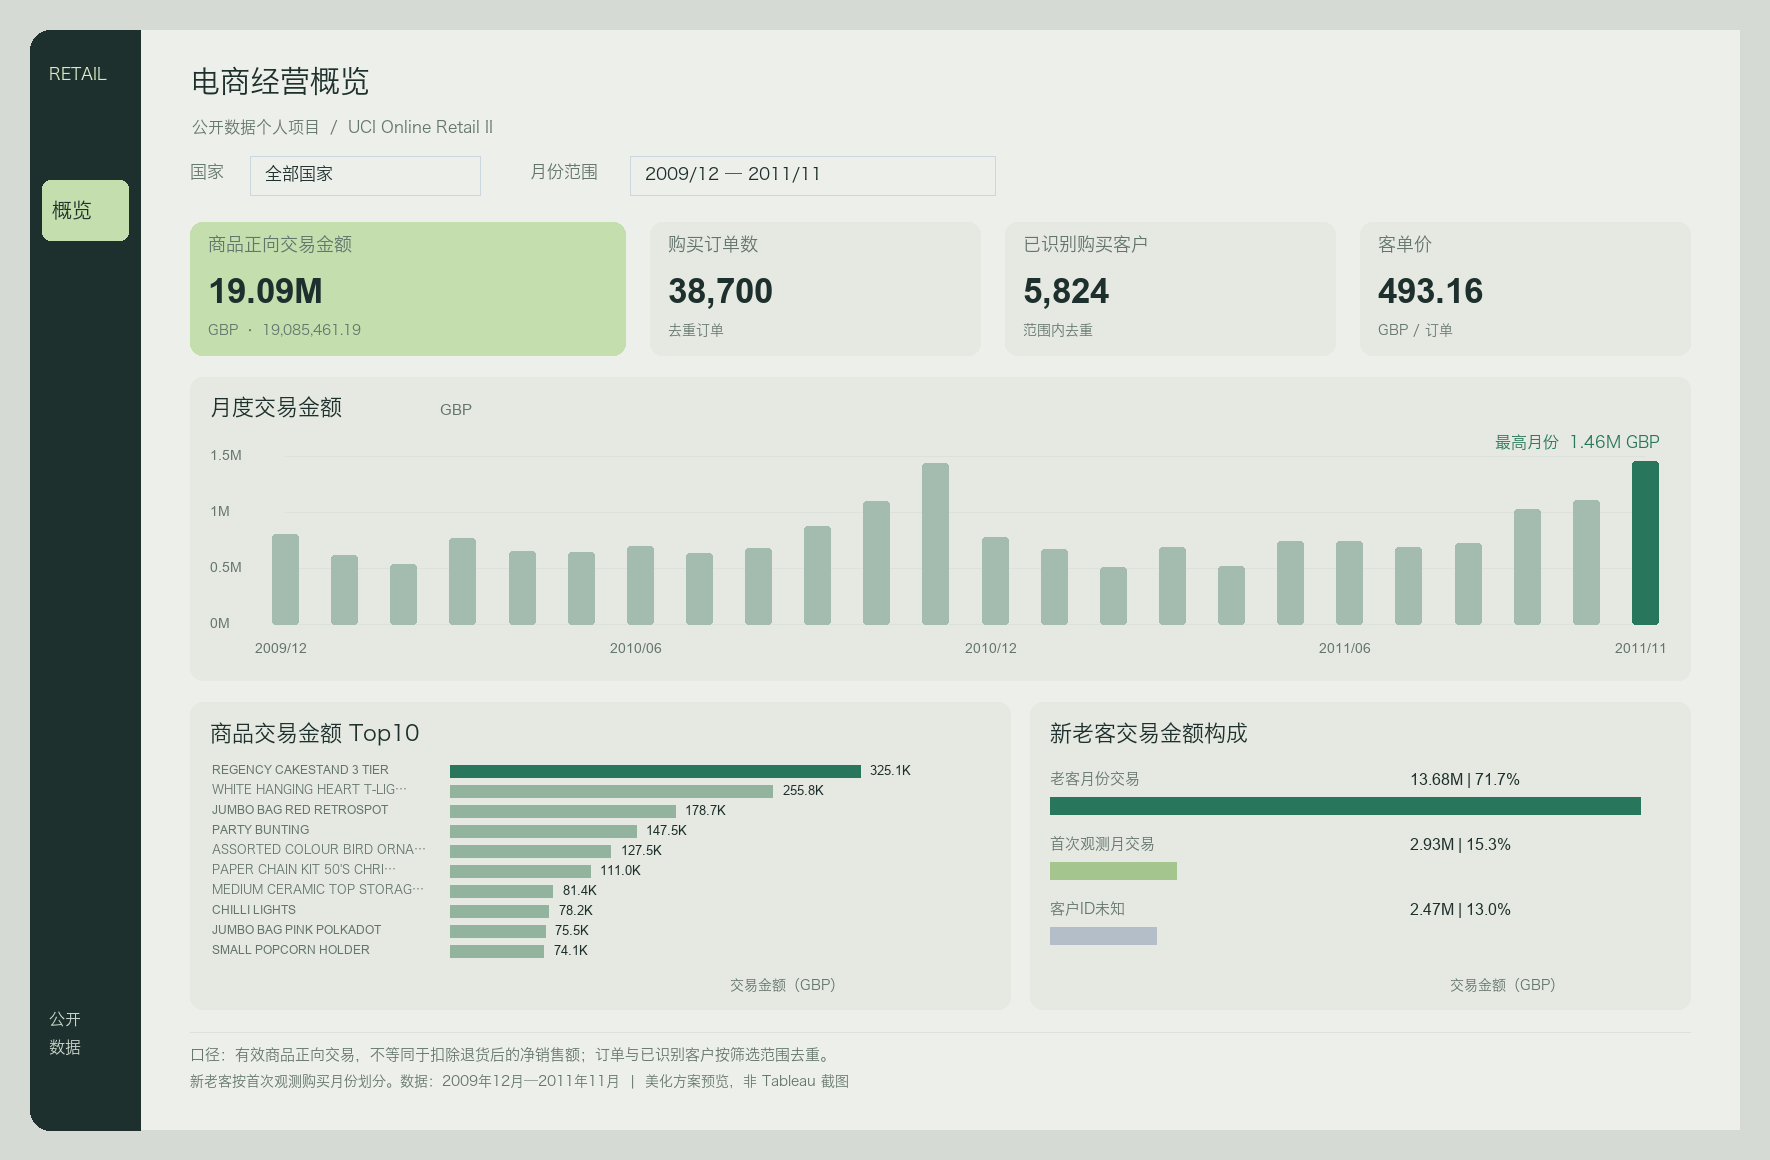

Layout of this report page (visuals, bound fields, positions):
{"tool":"tableau","page":{"name":"电商经营概览","canvas":[1200,800],"ordinal":0},"visuals":[{"type":"title","box":[8,8,1184,70]},{"type":"filter","title":"经营概览－商品排名","param":"[federated.157g0j00ozi3fg13ckk121qpsyf8].[none:Country:nk]","box":[8,78,430,63]},{"type":"filter","title":"经营概览－月度趋势","param":"[federated.157g0j00ozi3fg13ckk121qpsyf8].[none:Month:qk]","box":[438,78,754,63]},{"type":"worksheet","title":"经营概览－金额","mark":"Text","box":[8,141,296,82]},{"type":"worksheet","title":"经营概览－订单数","mark":"Automatic","box":[304,141,296,82]},{"type":"worksheet","title":"经营概览－客户数","mark":"Automatic","box":[600,141,296,82]},{"type":"worksheet","title":"经营概览－客单价","mark":"Automatic","box":[896,141,296,82]},{"type":"worksheet","title":"经营概览－月度趋势","mark":"Bar","rows":["LineAmount"],"cols":["Month"],"box":[8,222.7,1184,222.3]},{"type":"worksheet","title":"经营概览－商品排名","mark":"Automatic","rows":["StockCode","Calculation_2552719231754242"],"cols":["LineAmount"],"box":[8,445,608,306]},{"type":"worksheet","title":"经营概览－新老客构成","mark":"Bar","rows":["CustomerType"],"cols":["LineAmount"],"box":[616,445,576,306]},{"type":"text","box":[8,751,1184,41]}]}

Visuals, with their boxes on the page's 1200x800 design canvas (x1, y1, x2, y2). These are canvas units, not pixel positions in the 1770x1160 screenshot, which may show the page scaled, cropped or inside an application window:
title: pyautogui.locateOnScreen(8, 8, 1192, 78)
"经营概览－商品排名" filter: pyautogui.locateOnScreen(8, 78, 438, 141)
"经营概览－月度趋势" filter: pyautogui.locateOnScreen(438, 78, 1192, 141)
"经营概览－金额" worksheet (Text marks): pyautogui.locateOnScreen(8, 141, 304, 223)
"经营概览－订单数" worksheet: pyautogui.locateOnScreen(304, 141, 600, 223)
"经营概览－客户数" worksheet: pyautogui.locateOnScreen(600, 141, 896, 223)
"经营概览－客单价" worksheet: pyautogui.locateOnScreen(896, 141, 1192, 223)
"经营概览－月度趋势" worksheet (Bar marks): pyautogui.locateOnScreen(8, 223, 1192, 445)
"经营概览－商品排名" worksheet: pyautogui.locateOnScreen(8, 445, 616, 751)
"经营概览－新老客构成" worksheet (Bar marks): pyautogui.locateOnScreen(616, 445, 1192, 751)
text: pyautogui.locateOnScreen(8, 751, 1192, 792)
